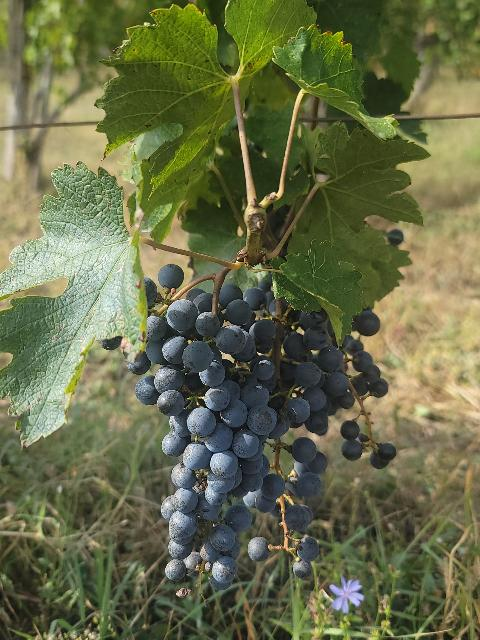grapes: (130, 279, 278, 589)
